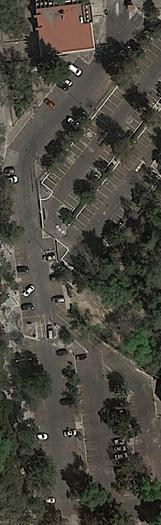parkingspot: (42, 42, 161, 192), (54, 87, 161, 222), (70, 121, 161, 234), (10, 55, 91, 151), (52, 347, 85, 498), (4, 174, 37, 319), (98, 172, 158, 245), (74, 352, 102, 479), (127, 394, 148, 459), (32, 407, 49, 442), (112, 434, 130, 467), (24, 344, 42, 370)
